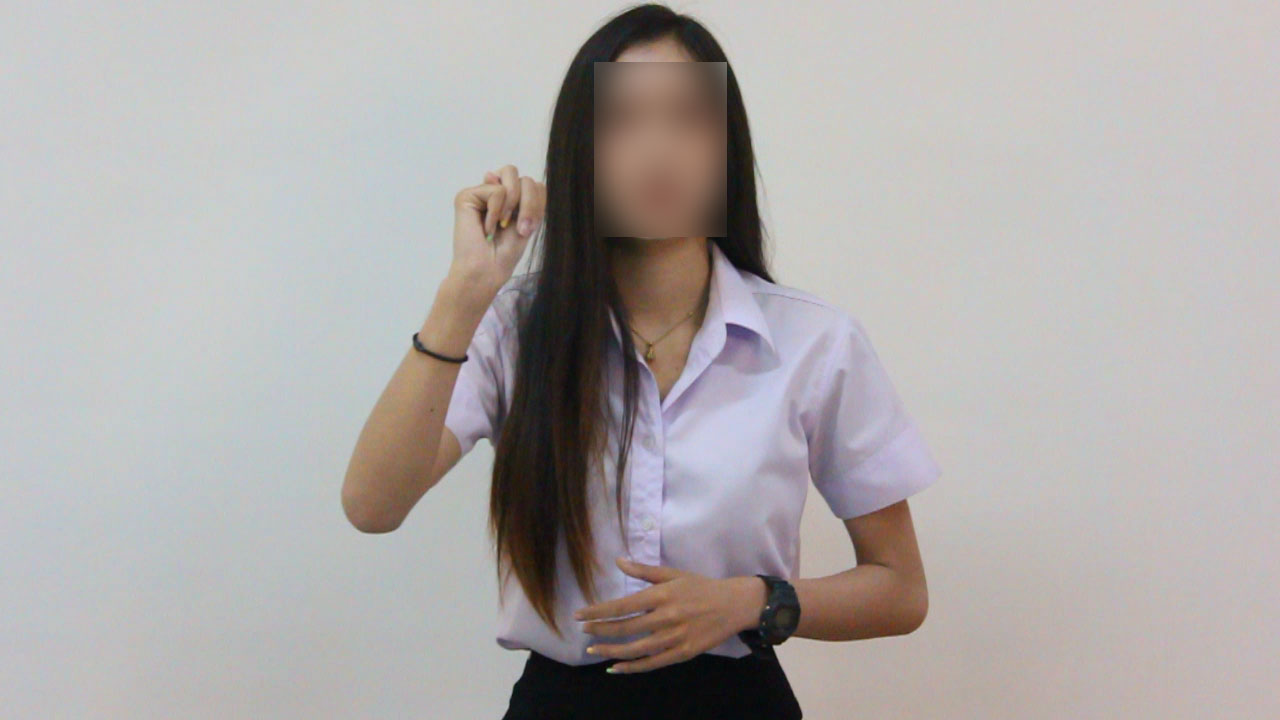mor: (443, 139, 559, 305)
